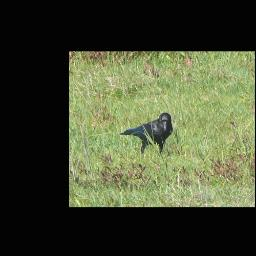Crow: (118, 113, 173, 157)
